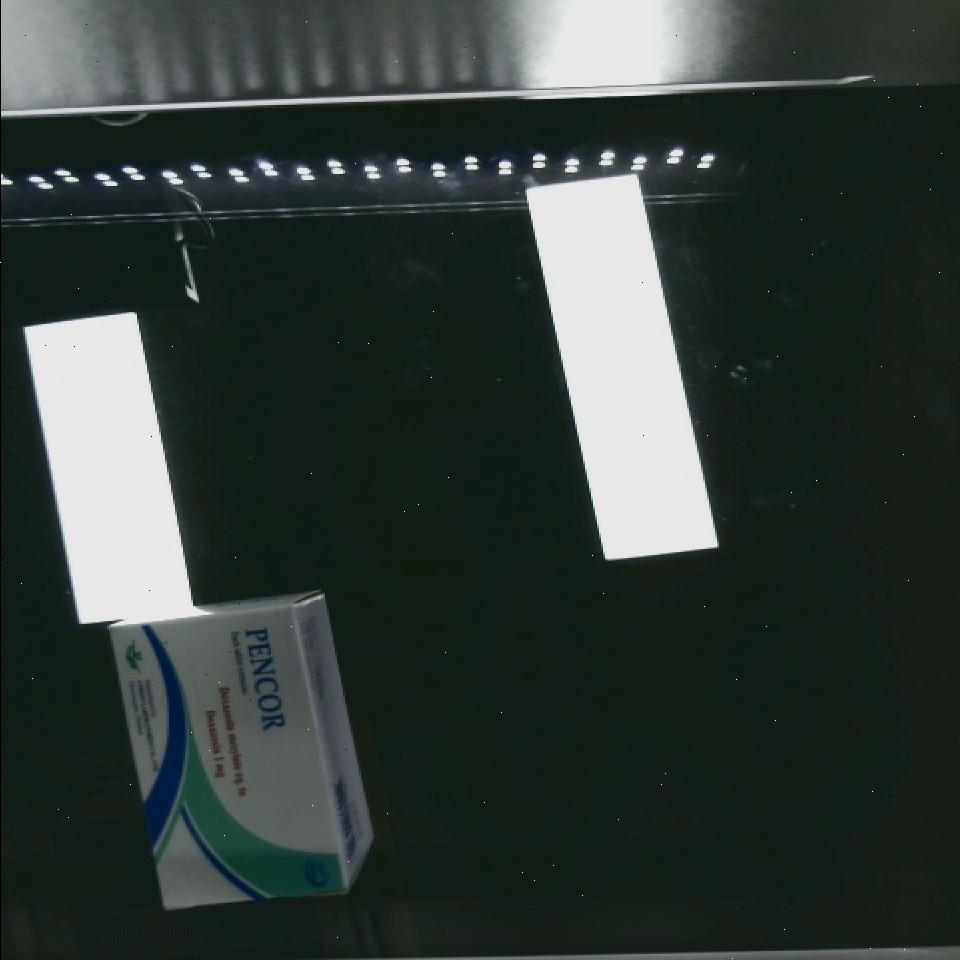medicine_box: (108, 593, 349, 919)
medicine_label_obb: (229, 606, 309, 748)
